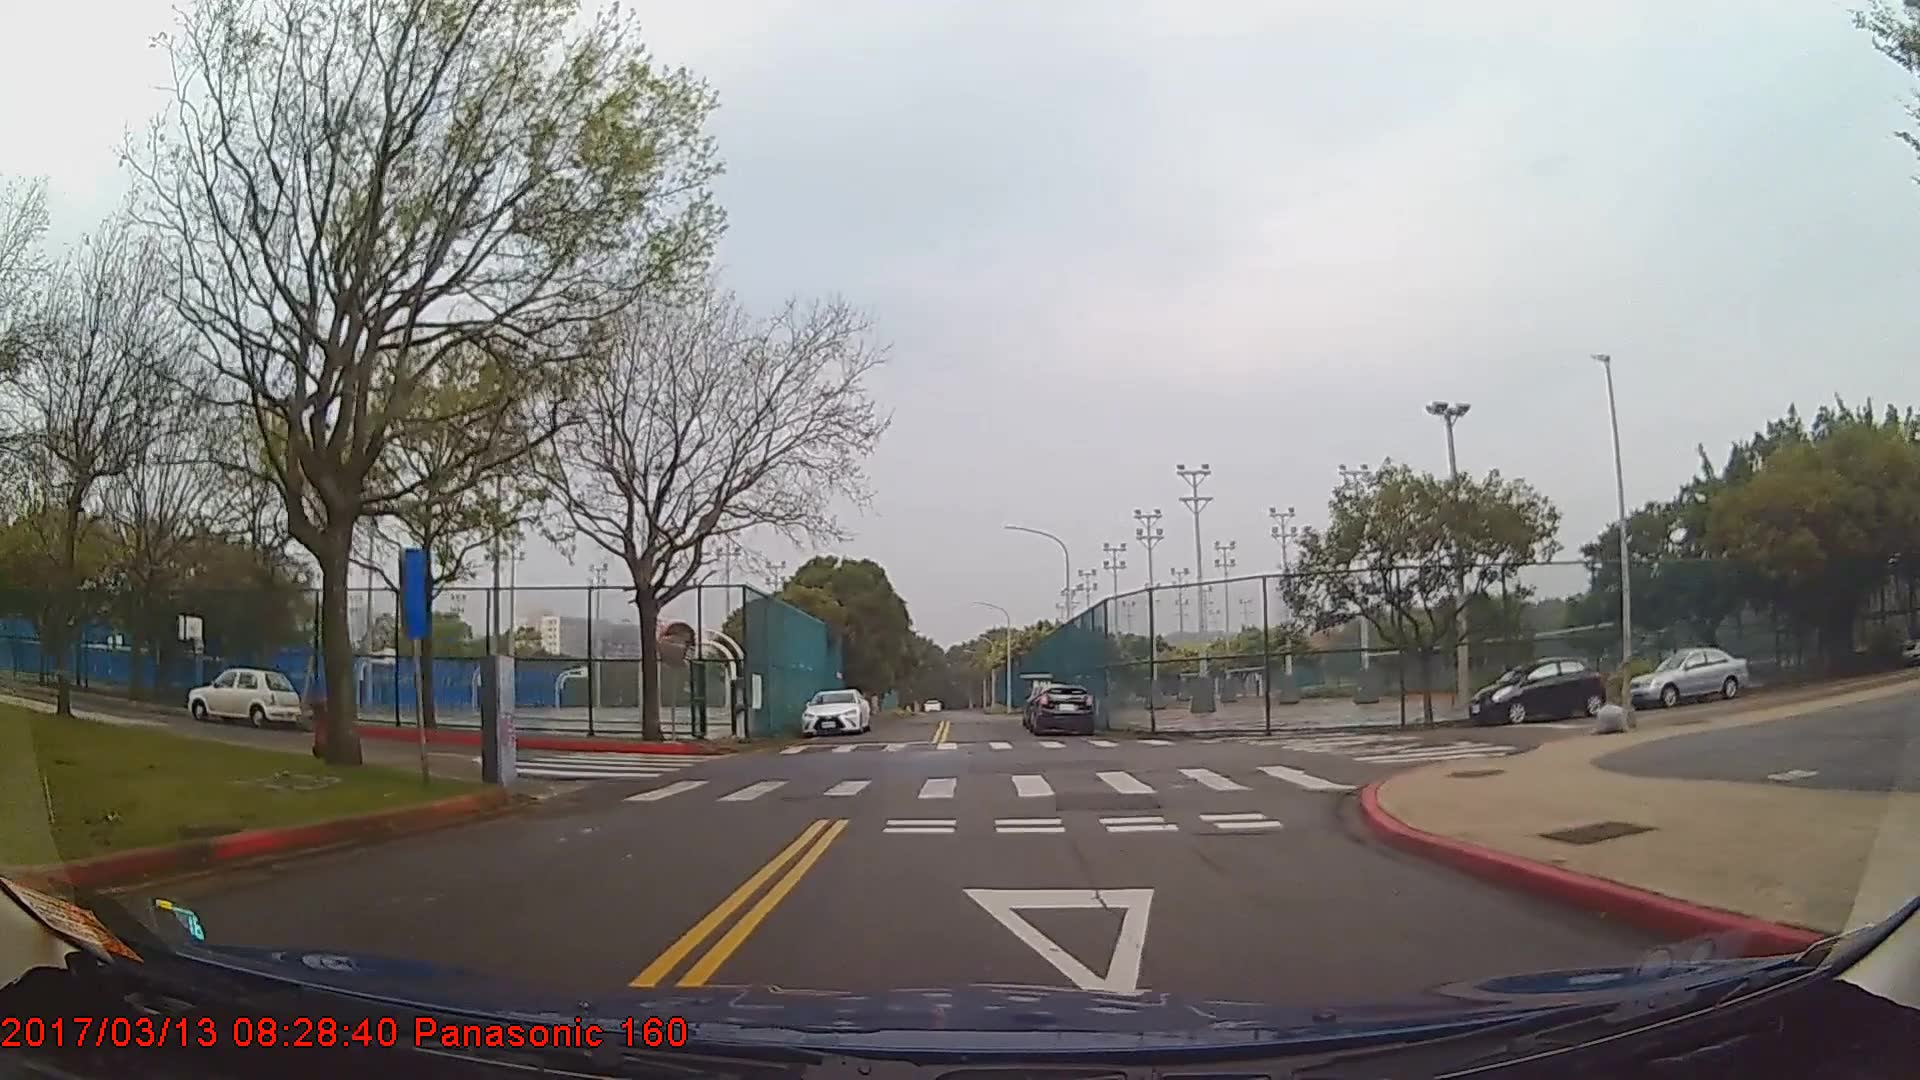vehicle: (1466, 655, 1604, 724), (1621, 644, 1751, 708), (183, 665, 299, 727), (1025, 680, 1093, 736), (798, 688, 868, 736)
